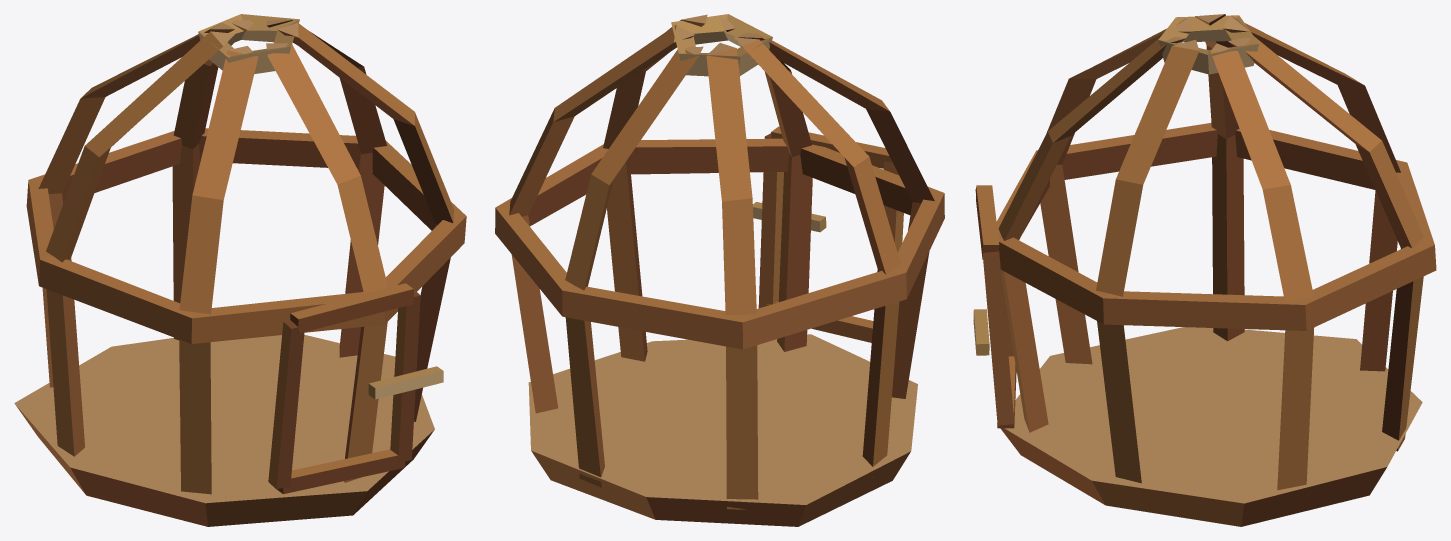
The model's file is Prehistoric_Single_Cage.glb.
The picture shows the model from 3 angles, left to right: view 1: azimuth 30°, elevation 25°; view 2: azimuth 150°, elevation 25°; view 3: azimuth 270°, elevation 25°; orthographic projection. The views are drawn at different scales.
Visible parts, largest first — view 1: Prehistoric_Single_Cage; view 2: Prehistoric_Single_Cage; view 3: Prehistoric_Single_Cage.
Boxes of the visible parts, x1=… form: Prehistoric_Single_Cage: x1=14, y1=14, x2=466, y2=526; Prehistoric_Single_Cage: x1=495, y1=14, x2=944, y2=526; Prehistoric_Single_Cage: x1=973, y1=14, x2=1436, y2=526.
Bounding box in the file's own units: 1.09 × 1.15 × 1.14.
